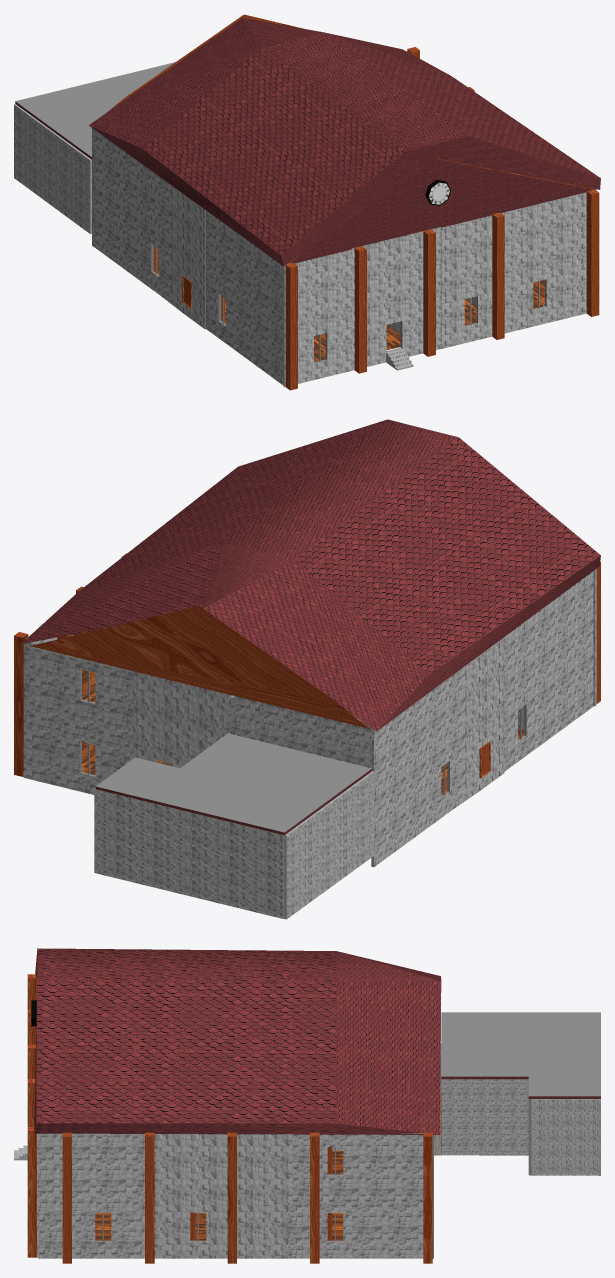
File: workshopv6.fbx
3 renders of one model, top to bottom at view 1: azimuth 30°, elevation 25°; view 2: azimuth 150°, elevation 25°; view 3: azimuth 270°, elevation 25°, orthographic. The views are drawn at different scales.
Visible parts, largest first — view 1: polySurface2, polySurface17, pPlane4, pCube26, pCube21, polySurface22, polySurface19, polySurface20, polySurface21, polySurface23, polySurface1, pPlane3 (+1 smaller); view 2: polySurface2, polySurface17, pCube27, pCube21, pPlane3, pCube26, pCube15, pCube48, polySurface23, polySurface1; view 3: polySurface2, polySurface17, pCube21, pCube17, pCube48, pCube29, polySurface22, polySurface1.
Boxes of the visible parts, bbox=[...] form: polySurface2: bbox=[89, 18, 600, 266]; polySurface17: bbox=[92, 51, 596, 387]; pPlane4: bbox=[291, 159, 592, 263]; pCube26: bbox=[14, 104, 91, 234]; pCube21: bbox=[15, 62, 174, 159]; polySurface22: bbox=[586, 189, 599, 316]; polySurface19: bbox=[354, 246, 366, 373]; polySurface20: bbox=[423, 229, 435, 356]; polySurface21: bbox=[492, 212, 504, 339]; polySurface23: bbox=[285, 263, 297, 390]; polySurface1: bbox=[157, 249, 544, 362]; pPlane3: bbox=[106, 14, 302, 112]; polySurface2: bbox=[21, 419, 600, 731]; polySurface17: bbox=[23, 569, 596, 867]; pCube27: bbox=[94, 788, 283, 918]; pCube21: bbox=[95, 733, 372, 835]; pPlane3: bbox=[31, 606, 368, 728]; pCube26: bbox=[284, 771, 374, 919]; pCube15: bbox=[229, 695, 371, 768]; pCube48: bbox=[14, 553, 126, 776]; polySurface23: bbox=[596, 562, 600, 703]; polySurface1: bbox=[82, 721, 523, 795]; polySurface2: bbox=[34, 948, 441, 1134]; polySurface17: bbox=[37, 979, 433, 1258]; pCube21: bbox=[441, 1012, 600, 1098]; pCube17: bbox=[442, 1079, 528, 1155]; pCube48: bbox=[62, 1132, 432, 1263]; pCube29: bbox=[531, 1099, 597, 1175]; polySurface22: bbox=[27, 1127, 36, 1257]; polySurface1: bbox=[95, 1092, 531, 1240].
Size of the model in its own units: 137 by 83.69 by 207.
9 materials, 6 textured.
